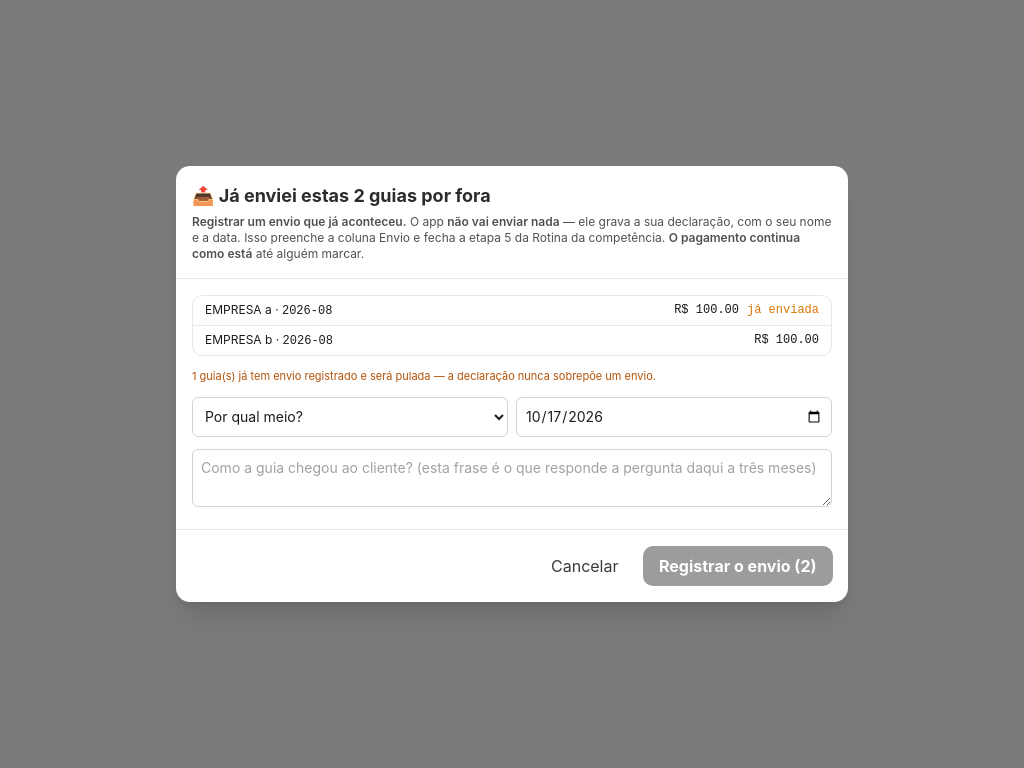
it: 📤 a porta do envio declarado na Central de DAS › a guia que já tem envio é avisada ANTES e a pulada do backend aparece DEPOIS, com o motivo
Expected: the text "1 guia(s) já tem envio registrado" is shown, [192, 369, 656, 383]
Select "WhatsApp pessoal / do escritório" in the dropdown named "Por qual meio?" at (350, 417), box [192, 397, 508, 437]
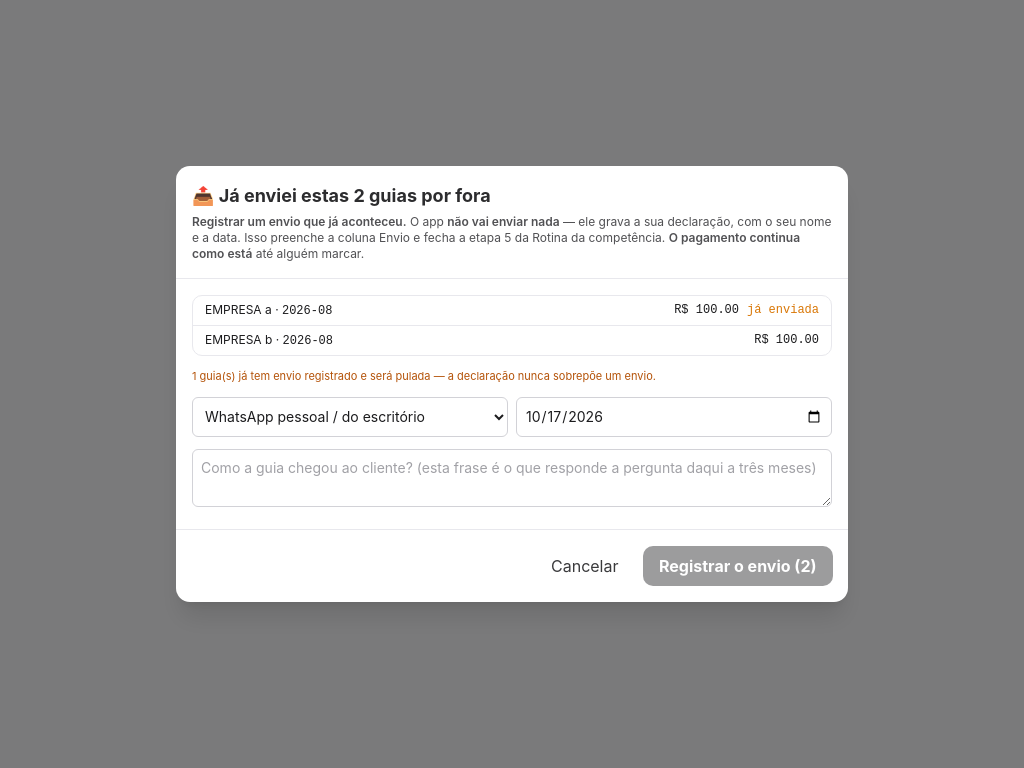
Replace the text in the text box labelled "Como a guia chegou ao cliente?" with "Mandei pelo WhatsApp do escritório." at (512, 478), box [192, 449, 832, 507]
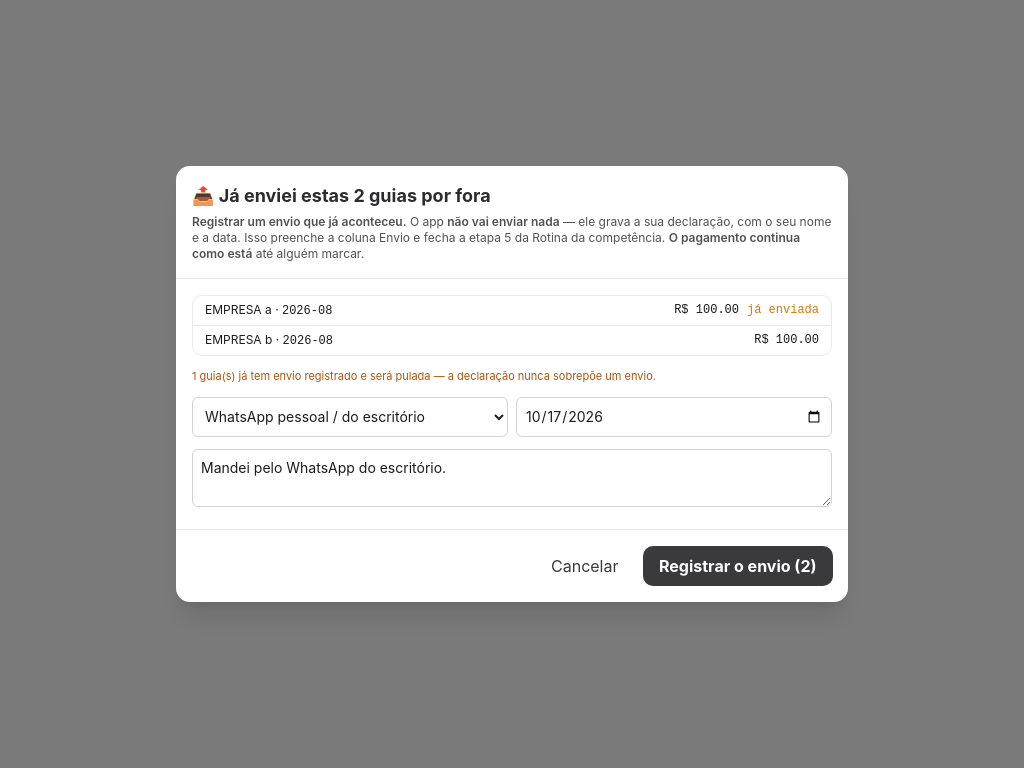
Click the button "Registrar o envio (2)".
click(737, 566)  # box [642, 546, 832, 586]
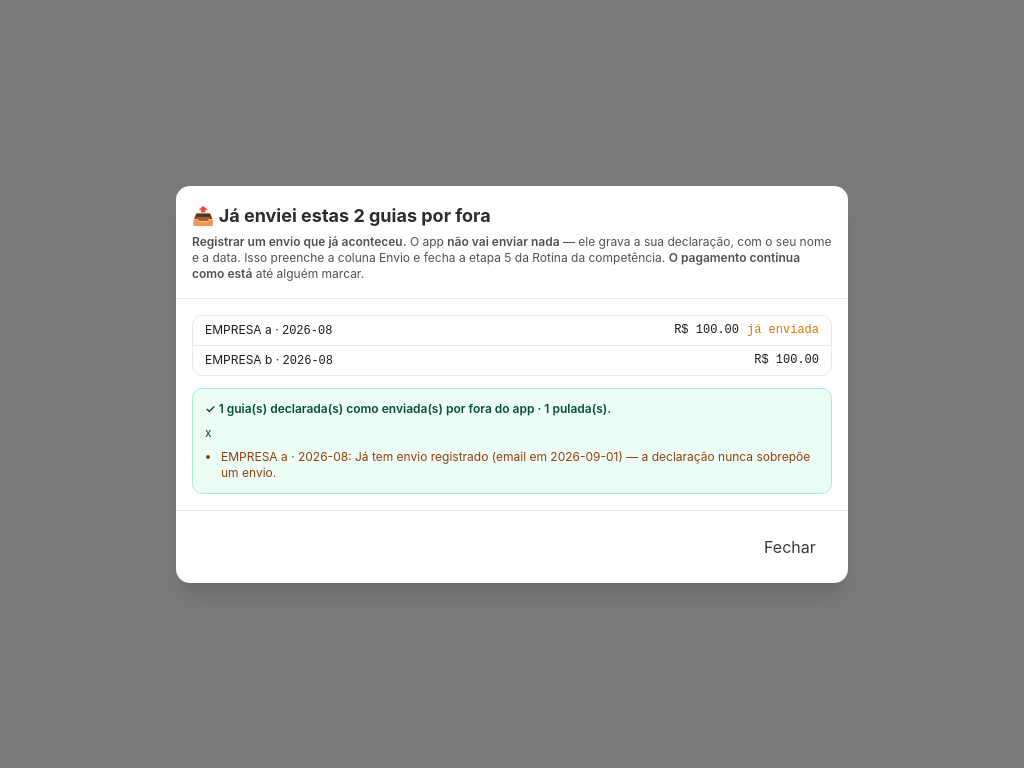
Result: the list item "nunca sobrepõe um envio" is shown at [221, 448, 810, 480]
